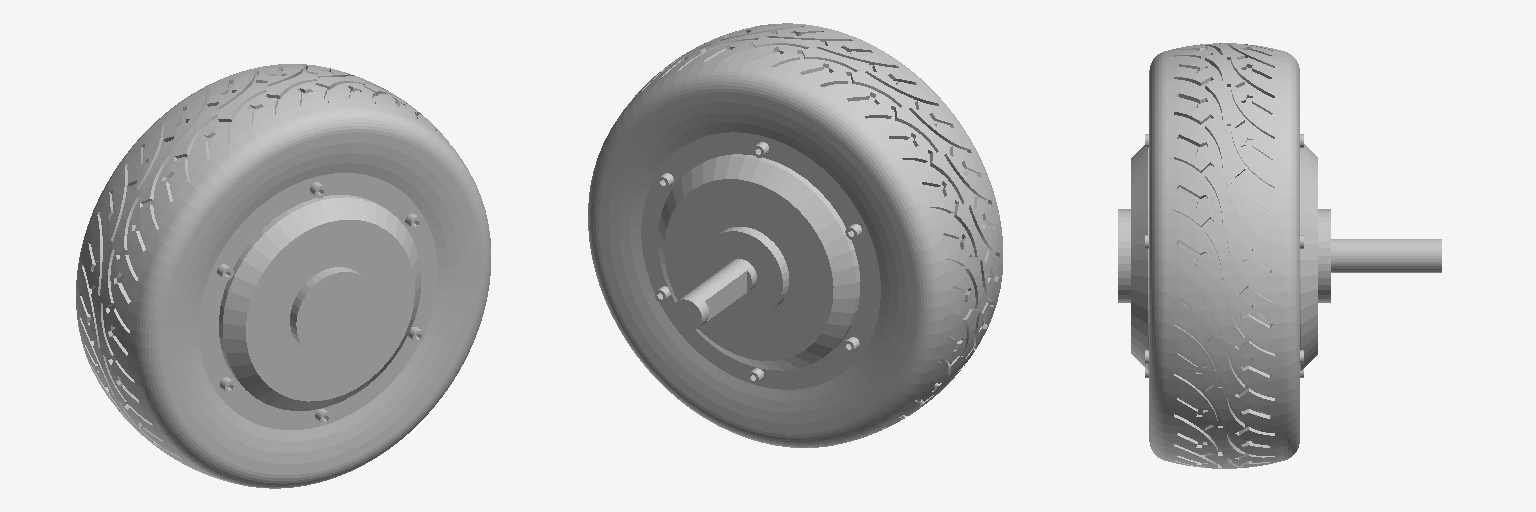
Rendered from wheel.obj.
3 views of the same model, side by side, from view 1: azimuth 30°, elevation 25°; view 2: azimuth 150°, elevation 25°; view 3: azimuth 270°, elevation 25° (orthographic).
Bounding box in the file's own units: 0.2 × 0.2 × 0.152.